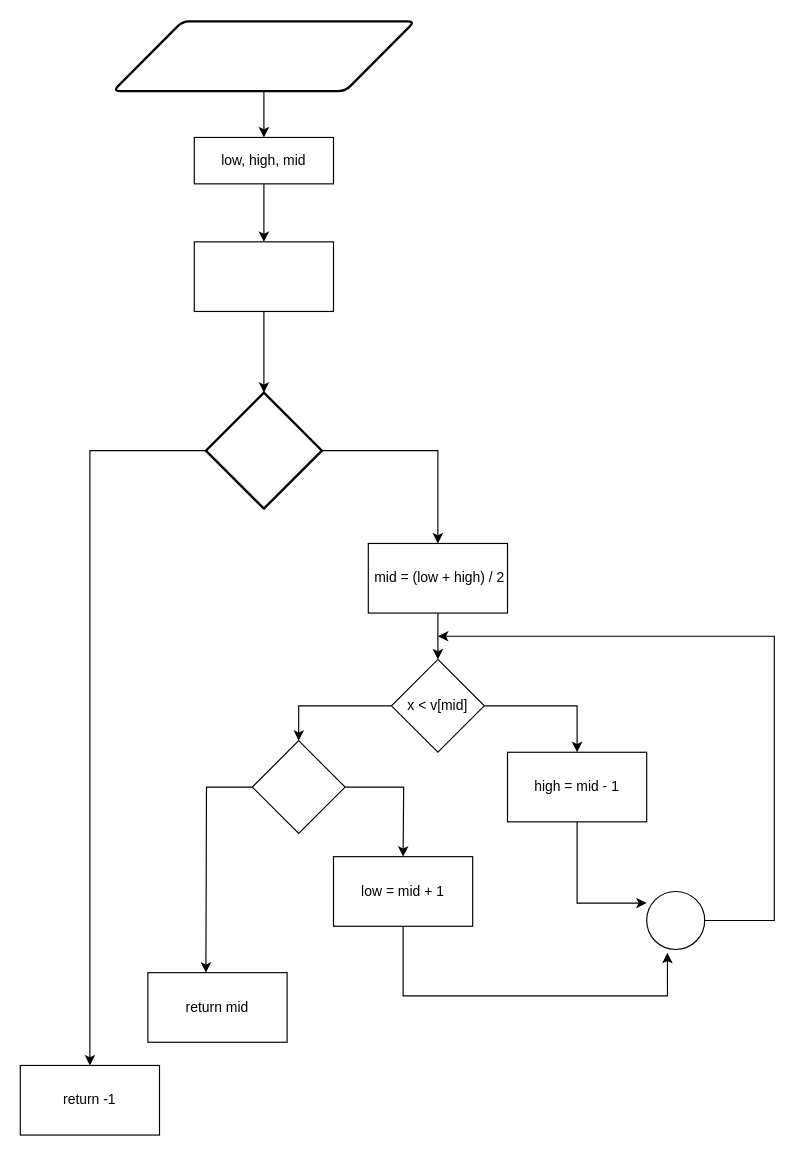
This 804x1155 diagram has some shape labels left out. The shapes that lost their labels are listed below. From the top down, each one's box as (x1, y1, x2, y2) in pixels, then its label:
(111, 20, 415, 92): initialize: x, v[], n
(193, 241, 334, 311): low = 0 high = n-1
(204, 391, 322, 509): low <= mid
(251, 740, 345, 833): x > v[mid]
